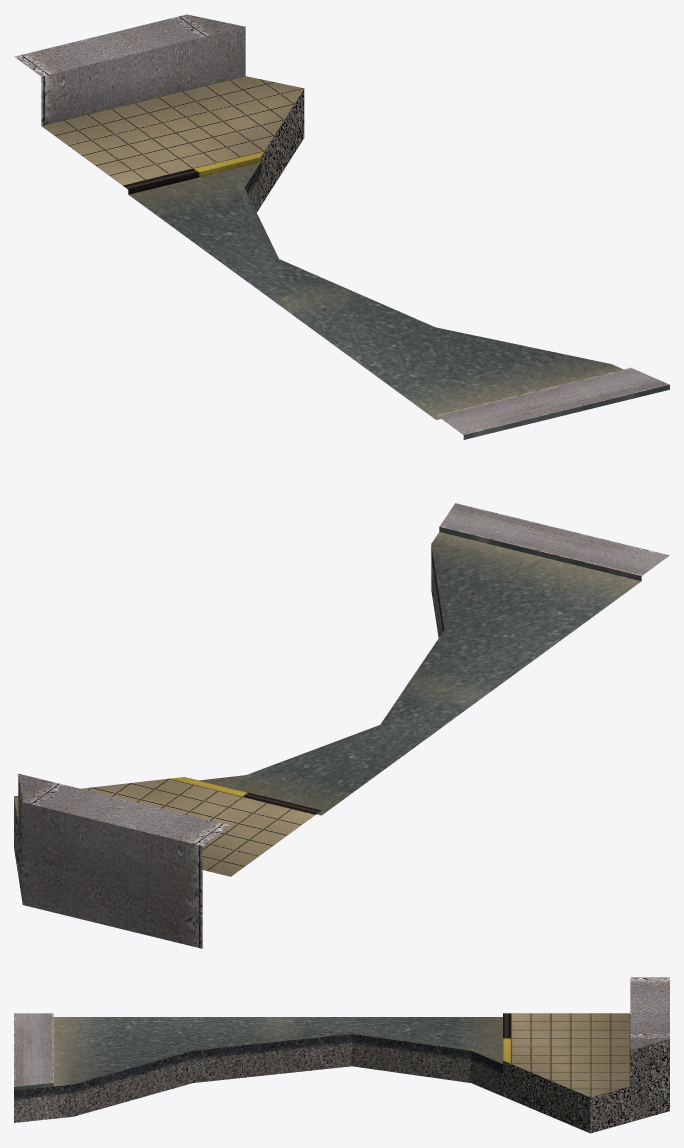
Rendered from M2_Zone4_FlyOver6_E.glb.
The picture shows the model from 3 angles, top to bottom: view 1: azimuth 30°, elevation 25°; view 2: azimuth 150°, elevation 25°; view 3: azimuth 270°, elevation 25°; orthographic projection. The views are drawn at different scales.
Parts seen in each view (by area): view 1: M2_ZONE4_FLYOVER6_E; view 2: M2_ZONE4_FLYOVER6_E; view 3: M2_ZONE4_FLYOVER6_E.
Part boxes in pixels (x1=…): M2_ZONE4_FLYOVER6_E: x1=14, y1=14, x2=669, y2=439; M2_ZONE4_FLYOVER6_E: x1=14, y1=503, x2=669, y2=948; M2_ZONE4_FLYOVER6_E: x1=14, y1=977, x2=669, y2=1133.
Size of the model in its own units: 5 by 2 by 16.5.
7 materials, 7 textured.
